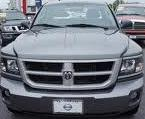front_view: (1, 45, 142, 106)
headlight: (112, 48, 145, 79)
